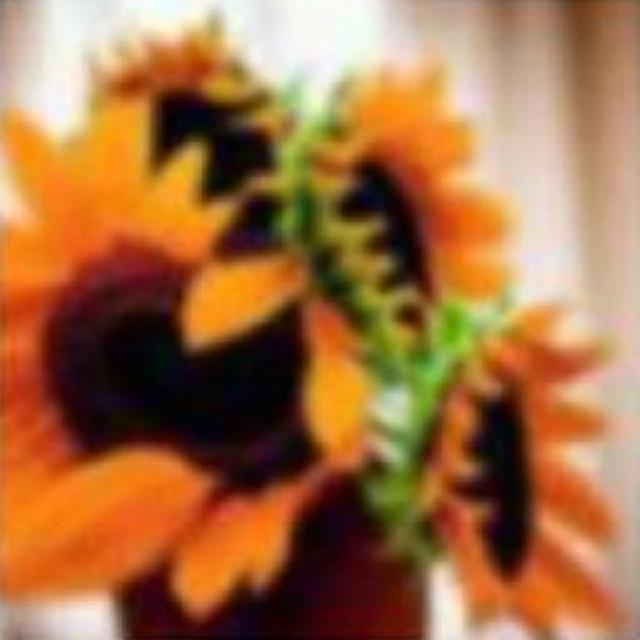sunflower: (1, 83, 363, 628), (386, 297, 640, 640), (300, 50, 526, 334)
